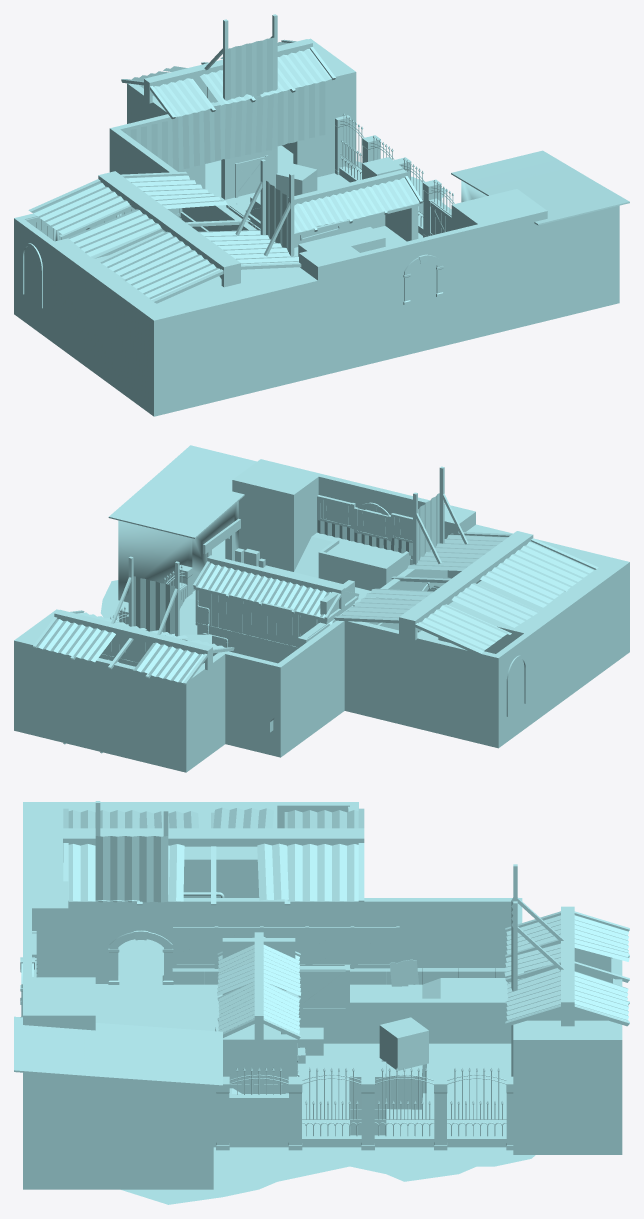
The model's file is Map.glb.
3 renders of one model, top to bottom at view 1: azimuth 30°, elevation 25°; view 2: azimuth 150°, elevation 25°; view 3: azimuth 270°, elevation 25°, orthographic. The views are drawn at different scales.
Visible parts, largest first — view 1: Base_0, Boxes_1; view 2: Base_0, Boxes_1; view 3: Base_0, Boxes_1.
Boxes of the visible parts, x1,y1,x2,y2 form: Base_0: (14,14,629,416); Boxes_1: (276,157,403,256); Base_0: (14,445,629,772); Boxes_1: (126,548,265,643); Base_0: (14,801,629,1204); Boxes_1: (215,1017,428,1135).
Size of the model in its own units: 37.6 by 13.5 by 33.93.
